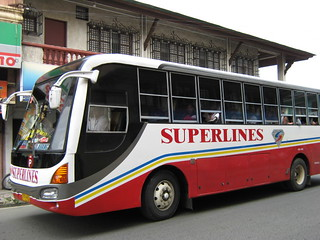bus: (9, 54, 320, 221)
